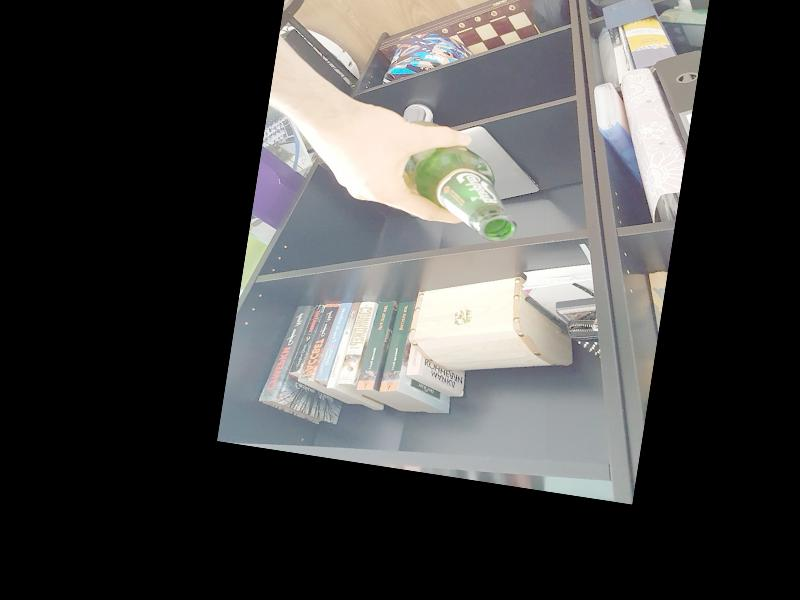Beer: (388, 117, 530, 243)
